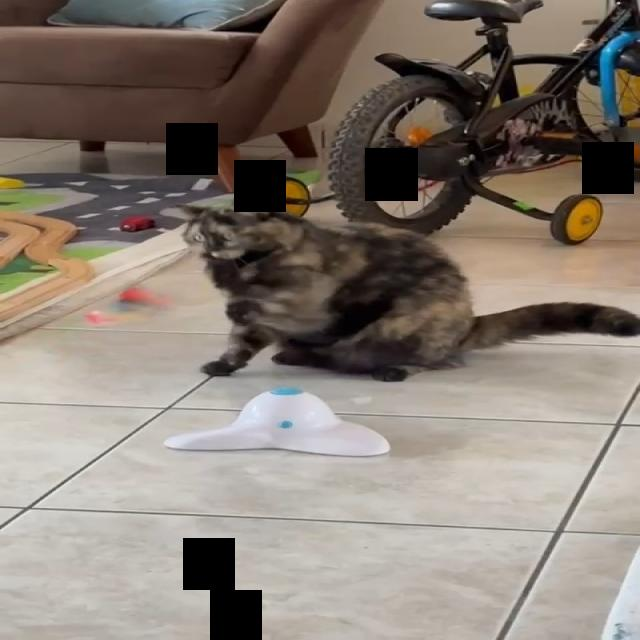authorized: (176, 198, 639, 382)
